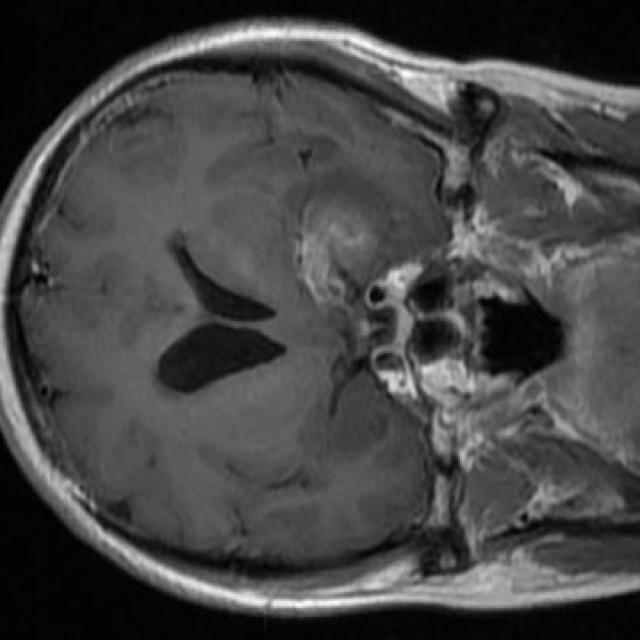glioma: (294, 194, 371, 307)
